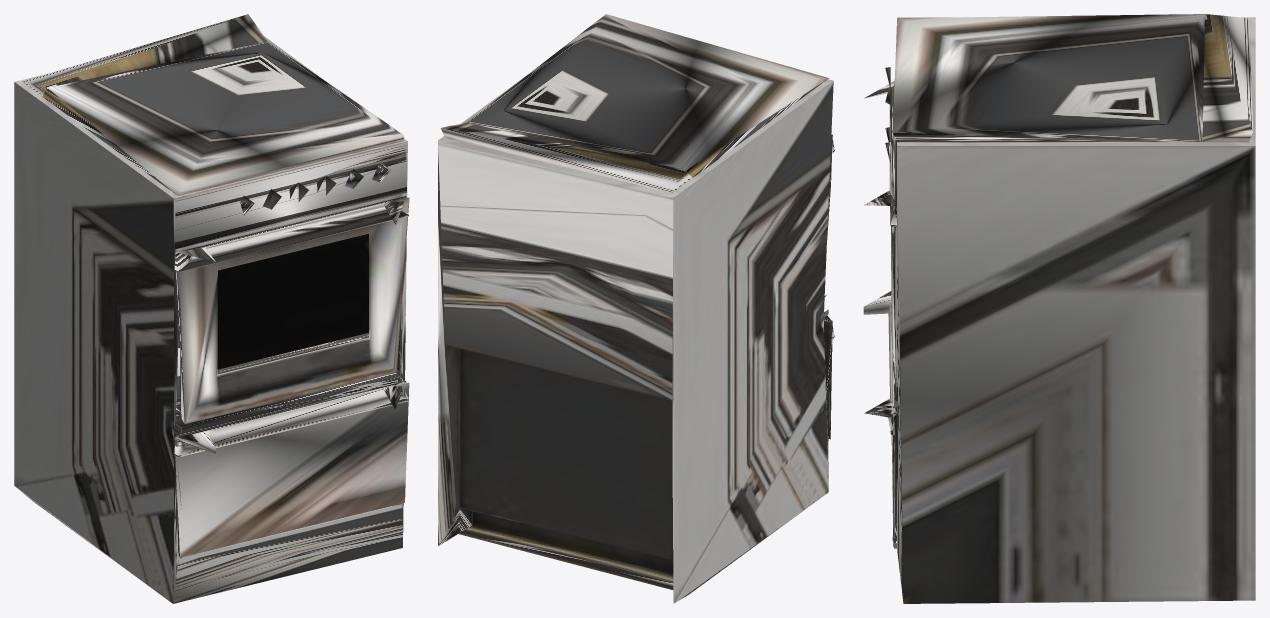
Rendered from electric_stove.glb.
The picture shows the model from 3 angles, left to right: view 1: azimuth 30°, elevation 25°; view 2: azimuth 150°, elevation 25°; view 3: azimuth 270°, elevation 25°; orthographic projection. The views are drawn at different scales.
Visible parts, largest first — view 1: stovetop, door_top, handle_bottom_attachment; view 2: stovetop, handle_bottom_attachment; view 3: stovetop, door_top, handle_bottom_attachment.
Part boxes in pixels (<box>): stovetop: <box>14,14,407,603</box>; door_top: <box>174,196,409,424</box>; handle_bottom_attachment: <box>174,381,409,557</box>; stovetop: <box>438,14,833,603</box>; handle_bottom_attachment: <box>823,312,834,439</box>; stovetop: <box>892,14,1255,603</box>; door_top: <box>864,81,896,393</box>; handle_bottom_attachment: <box>863,291,897,546</box>.
Bounding box in the file's own units: 0.5 × 0.8578 × 0.6446.
2 materials, 2 textured.
